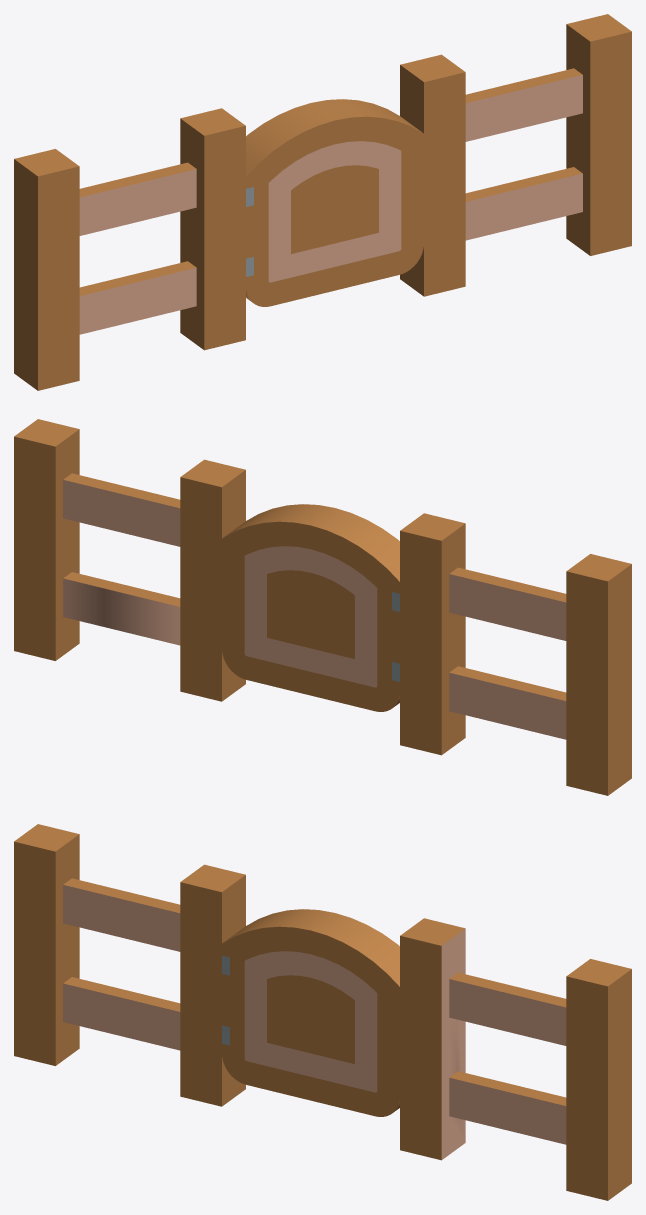
Rendered from fence_gate.glb.
3 renders of one model, top to bottom at view 1: azimuth 30°, elevation 25°; view 2: azimuth 150°, elevation 25°; view 3: azimuth 330°, elevation 25°, orthographic.
Visible parts, largest first — view 1: fence_gate, gate; view 2: fence_gate, gate; view 3: fence_gate, gate.
Part boxes in pixels (x1=…): fence_gate: x1=14, y1=14, x2=631, y2=390; gate: x1=246, y1=99, x2=423, y2=306; fence_gate: x1=14, y1=419, x2=631, y2=795; gate: x1=222, y1=504, x2=399, y2=711; fence_gate: x1=14, y1=824, x2=631, y2=1200; gate: x1=222, y1=909, x2=399, y2=1116.
Size of the model in its own units: 1 by 0.345 by 0.07.
